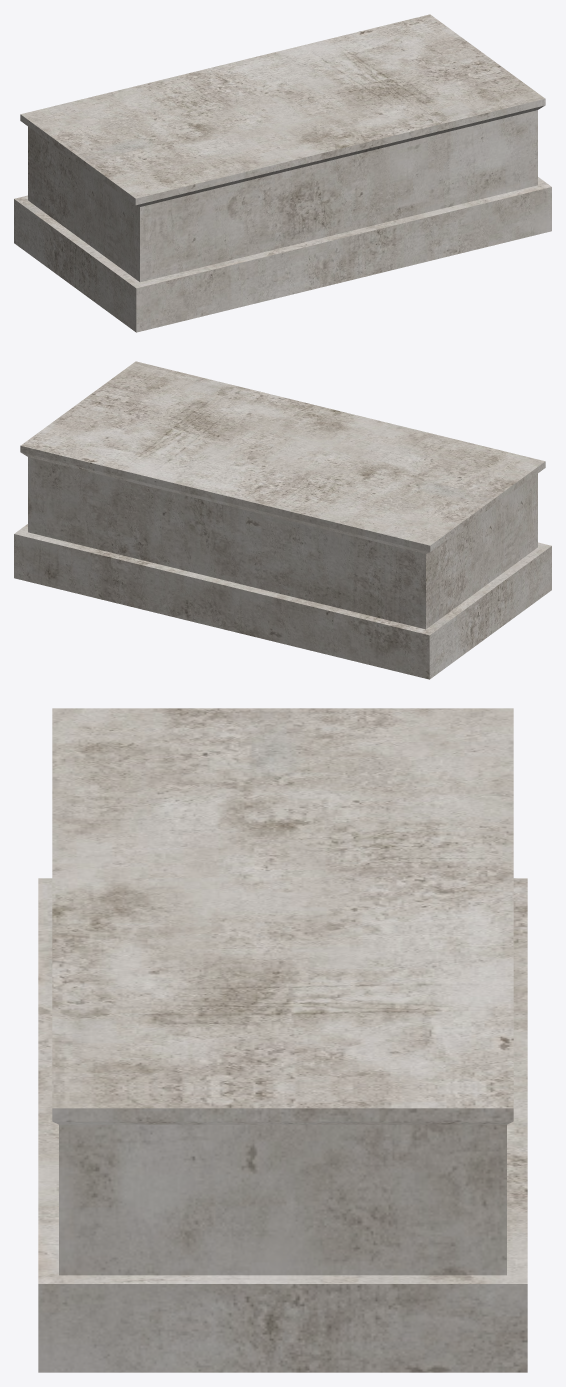
Rendered from grave2.fbx.
The picture shows the model from 3 angles, top to bottom: view 1: azimuth 30°, elevation 25°; view 2: azimuth 150°, elevation 25°; view 3: azimuth 270°, elevation 25°; orthographic projection. The views are drawn at different scales.
Visible parts, largest first — view 1: Model; view 2: Model; view 3: Model.
Part boxes in pixels (<box>): Model: <box>14,14,551,332</box>; Model: <box>14,361,551,679</box>; Model: <box>38,708,527,1372</box>.
Bounding box in the file's own units: 3016 × 906 × 1537.
